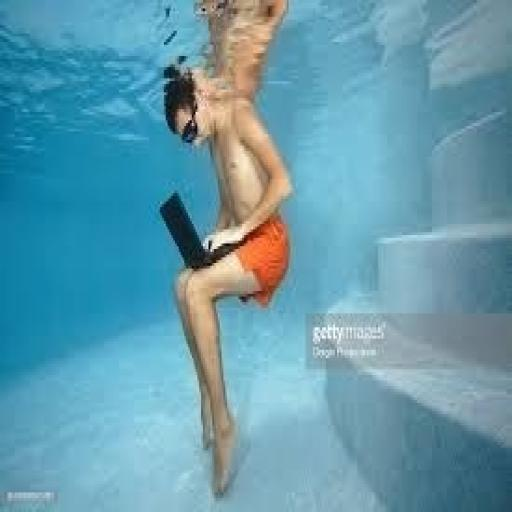using_laptop: (156, 188, 210, 268)
